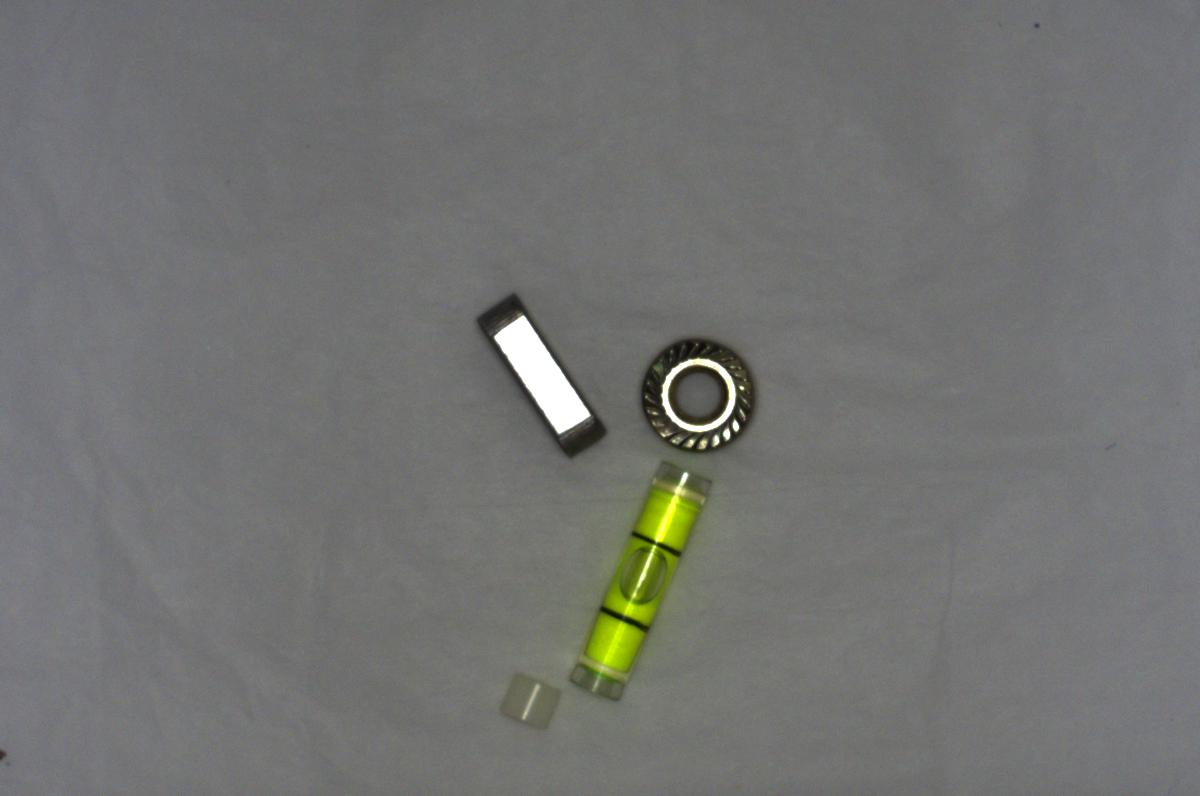Flange nut: (630, 329, 767, 454)
Horizontal bubble: (561, 461, 721, 703)
Keybar: (474, 287, 611, 460)
Plastic cushion pillar: (487, 661, 566, 739)
